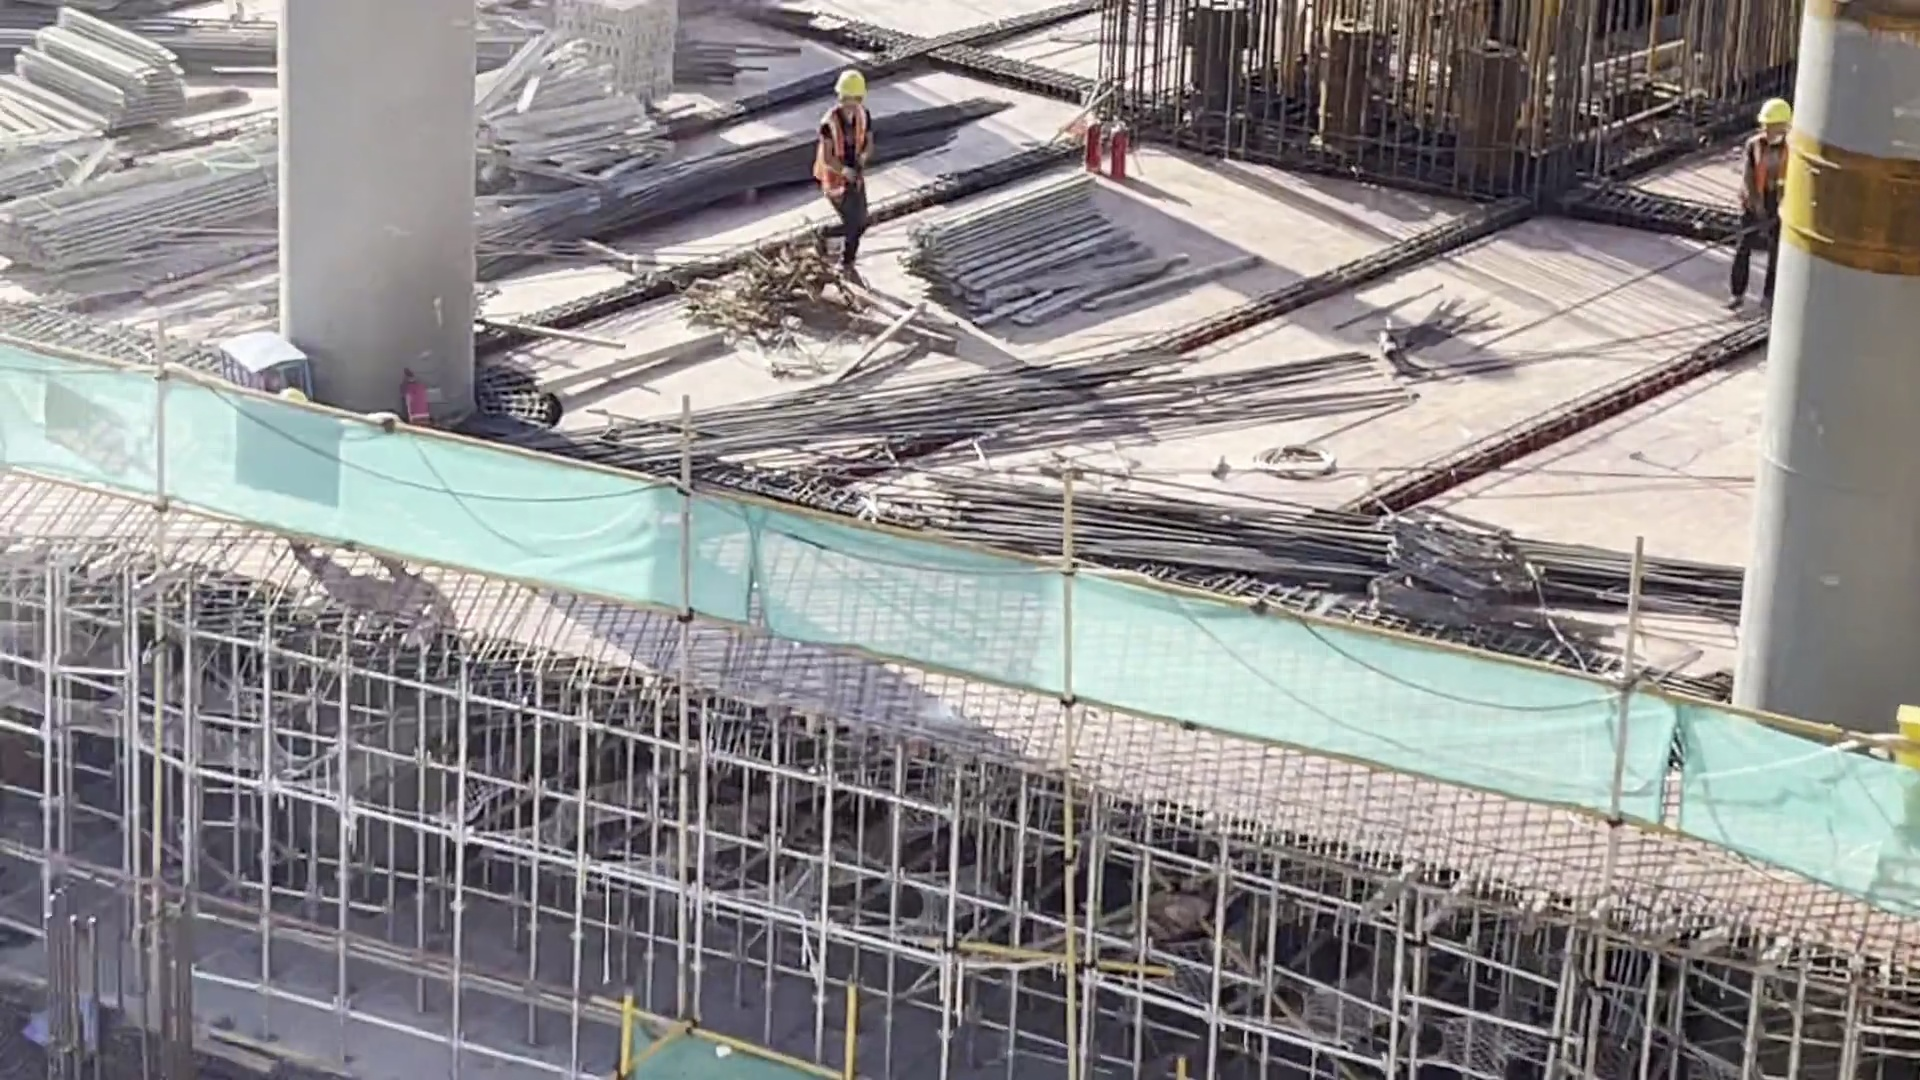helmet: (1752, 98, 1794, 129), (834, 67, 864, 101)
person: (819, 61, 888, 237), (1740, 90, 1791, 301)
vest: (816, 102, 874, 200), (1745, 137, 1808, 222)
